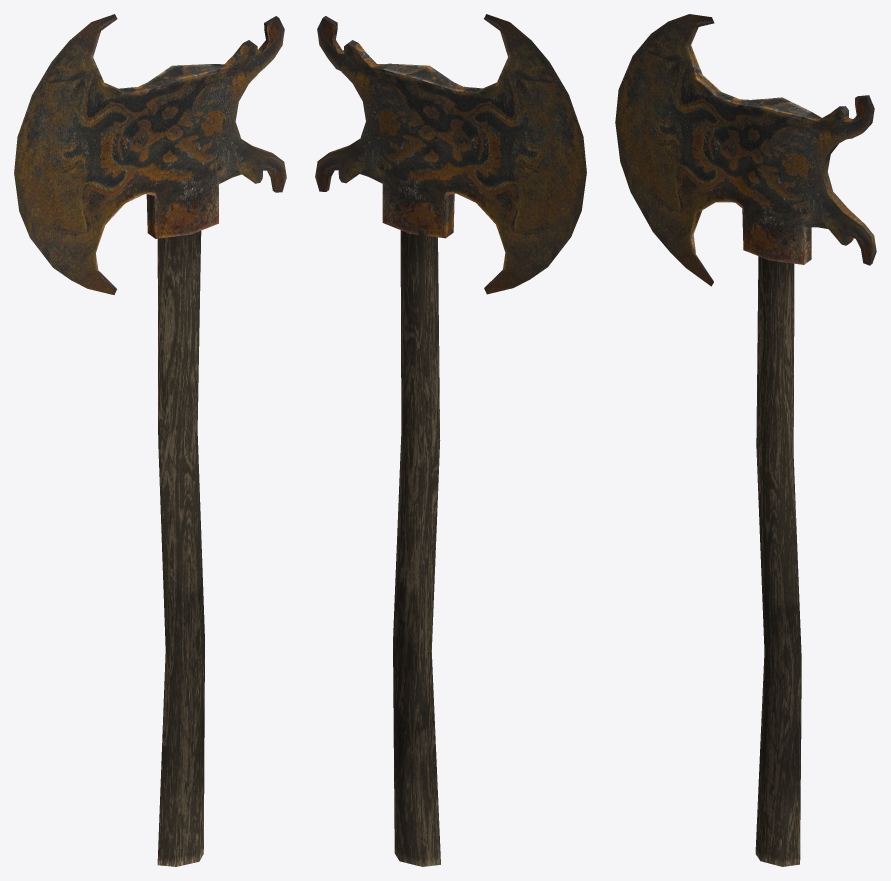
Rendered from axe_LOD0.FBX.
3 renders of one model, left to right at view 1: azimuth 30°, elevation 25°; view 2: azimuth 150°, elevation 25°; view 3: azimuth 330°, elevation 25°, orthographic. The views are drawn at different scales.
Visible parts, largest first — view 1: axe_LOD0; view 2: axe_LOD0; view 3: axe_LOD0.
Boxes of the visible parts, x1,y1,x2,y2 form: axe_LOD0: (14, 14, 286, 866); axe_LOD0: (315, 14, 586, 866); axe_LOD0: (615, 14, 876, 866).
Size of the model in its own units: 41.84 by 127 by 4.43.
